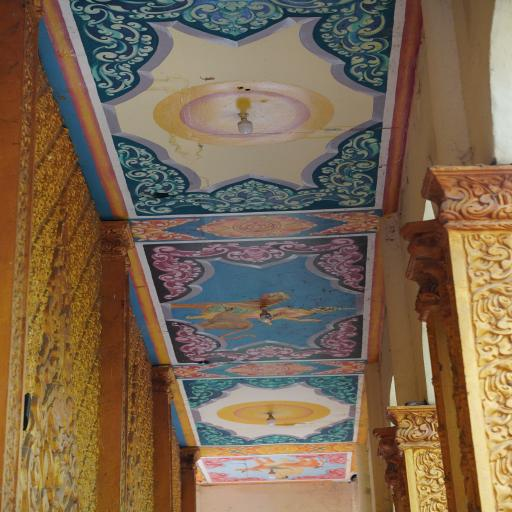hoa: (197, 217, 317, 239), (312, 213, 384, 237), (224, 361, 320, 379), (129, 218, 202, 241), (173, 362, 229, 382), (314, 358, 368, 376), (249, 444, 310, 454), (198, 445, 244, 457), (309, 441, 355, 453)
la: (64, 0, 188, 109), (286, 0, 396, 93), (112, 140, 202, 216), (304, 124, 383, 208), (184, 174, 323, 214), (174, 0, 291, 46), (143, 244, 214, 300), (436, 175, 512, 223), (306, 238, 366, 293), (193, 240, 320, 264), (171, 321, 239, 364), (472, 288, 512, 359), (410, 447, 453, 512), (463, 232, 512, 288), (477, 358, 512, 424), (485, 427, 512, 511), (314, 314, 362, 360), (221, 342, 321, 363), (388, 407, 443, 445), (182, 379, 239, 410), (306, 375, 361, 407), (191, 421, 245, 448), (98, 222, 138, 256), (304, 418, 357, 443), (200, 454, 256, 470), (289, 452, 353, 466), (293, 467, 354, 481), (249, 431, 302, 447), (206, 471, 266, 484), (246, 376, 300, 390)
than: (184, 292, 358, 328), (261, 458, 312, 481)
